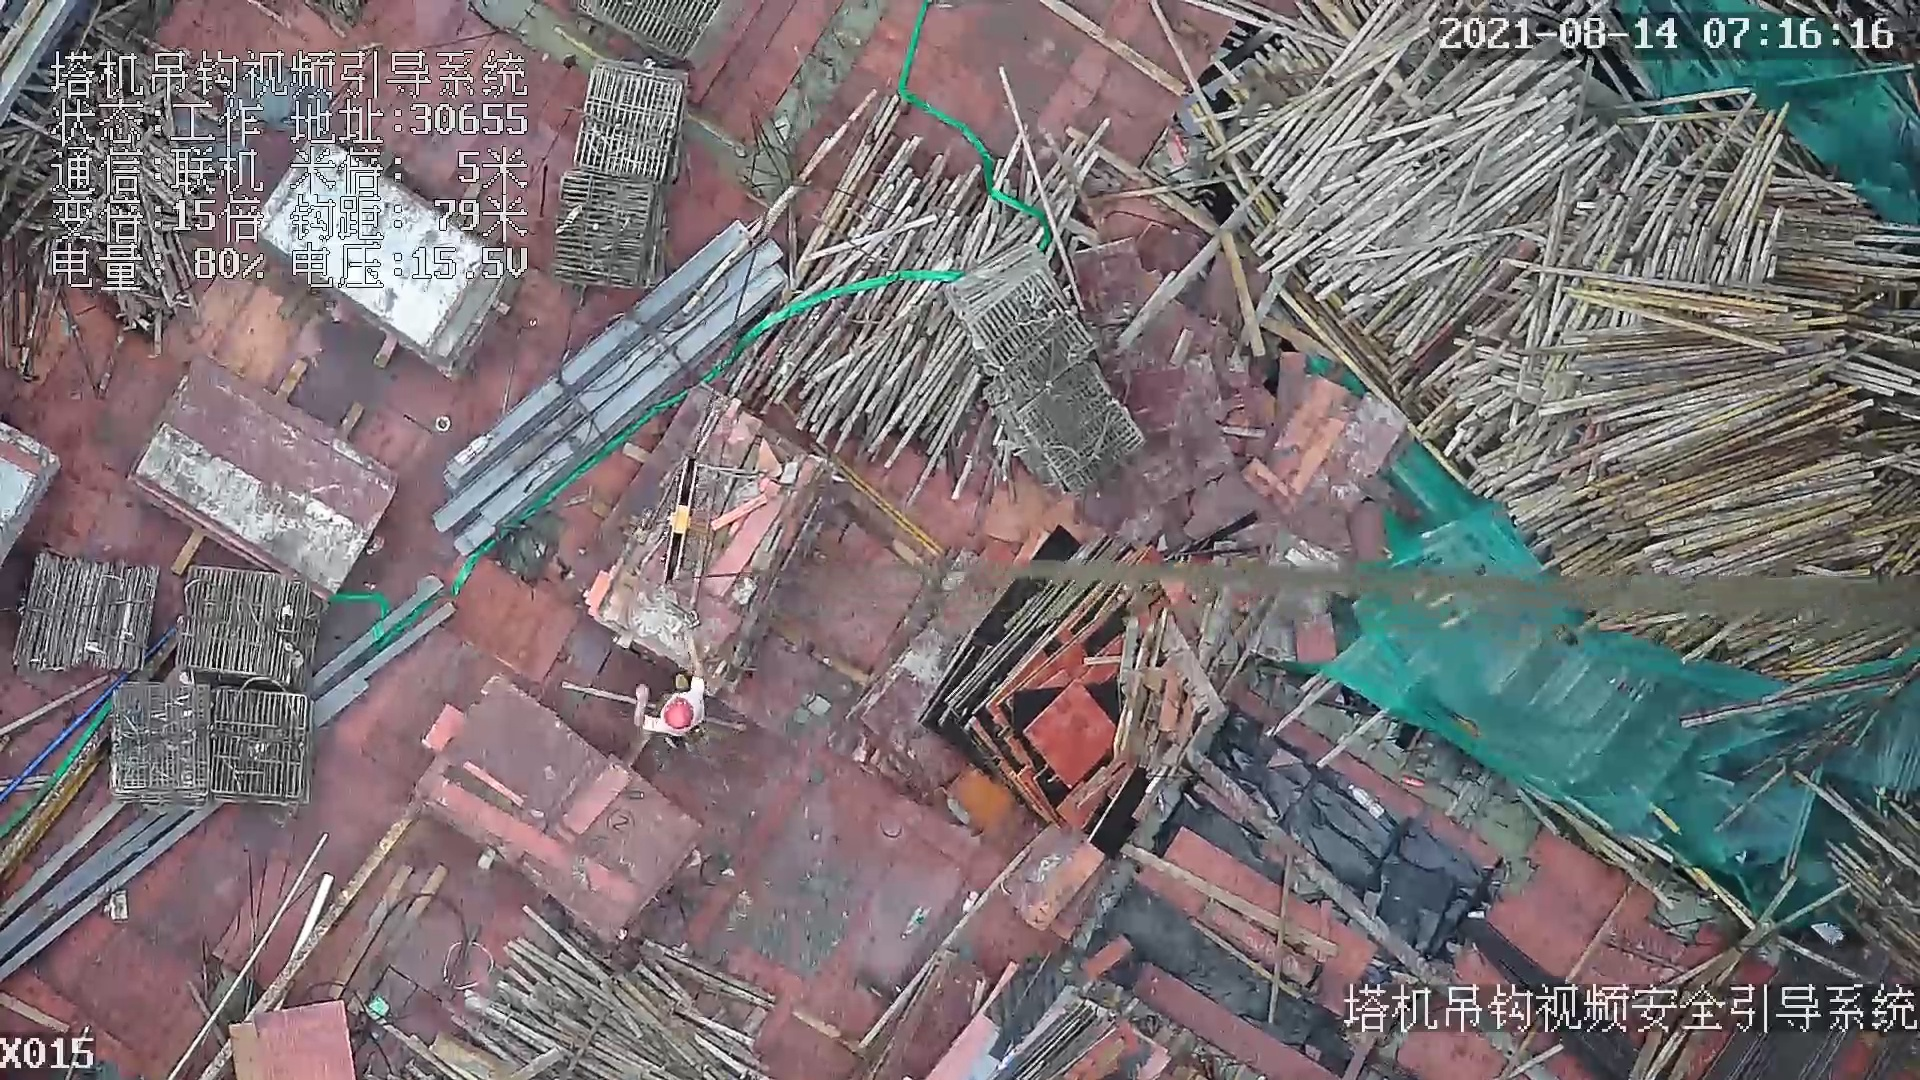helmet: (658, 697, 699, 732)
hook: (658, 456, 704, 591)
person: (637, 628, 712, 744)
